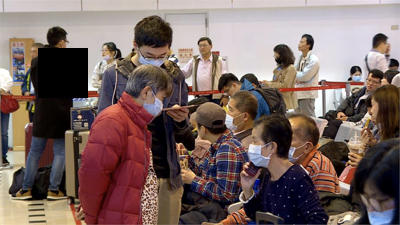mask_weared_incorrect: (100, 49, 113, 61)
with_mask: (247, 135, 271, 170), (143, 92, 166, 119), (138, 51, 169, 67), (224, 105, 240, 135), (274, 54, 284, 65), (352, 73, 363, 82)
without_mask: (371, 100, 382, 123), (367, 76, 382, 92), (224, 83, 239, 97), (381, 76, 393, 88), (199, 43, 209, 56), (298, 39, 306, 52), (30, 50, 38, 58)
